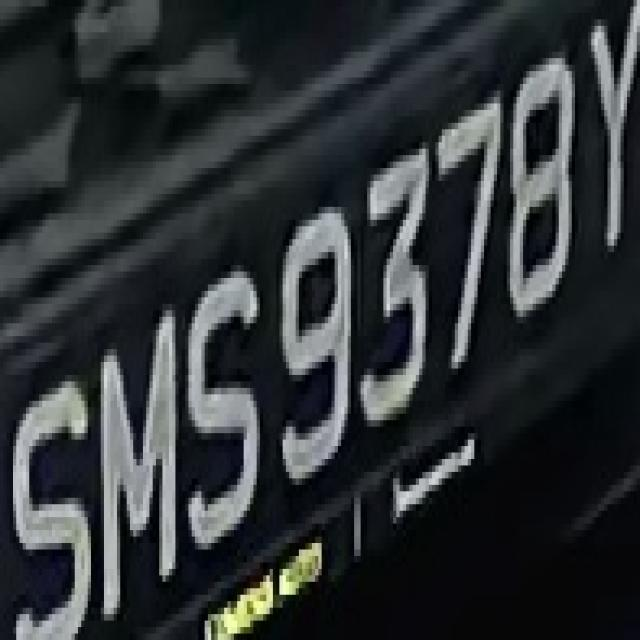3: (357, 136, 442, 433)
7: (422, 65, 500, 388)
8: (500, 51, 585, 316)
9: (276, 188, 358, 510)
M: (84, 304, 178, 627)
S: (172, 246, 273, 569)
Y: (581, 6, 640, 271)
